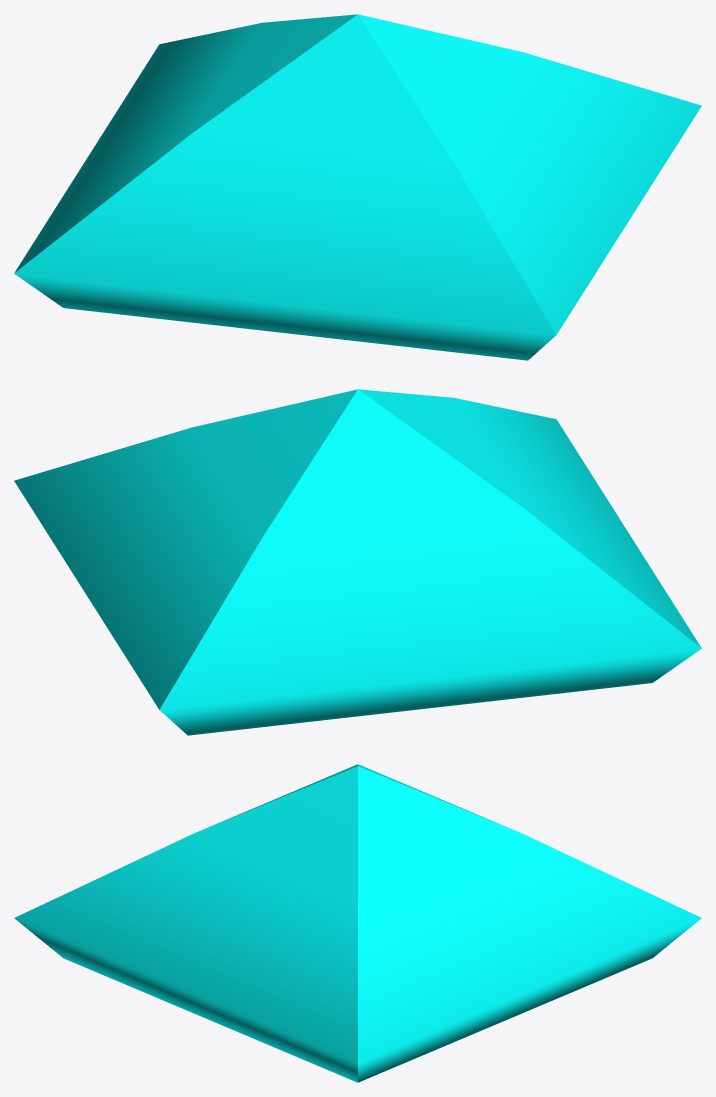
The model's file is resource.fbx.
3 views of the same model, one above another, from view 1: azimuth 30°, elevation 25°; view 2: azimuth 150°, elevation 25°; view 3: azimuth 270°, elevation 25° (orthographic). The views are drawn at different scales.
Visible parts, largest first — view 1: pCube3; view 2: pCube3; view 3: pCube3.
Boxes of the visible parts, bbox=[...] form: pCube3: bbox=[14, 14, 701, 360]; pCube3: bbox=[14, 389, 701, 735]; pCube3: bbox=[14, 764, 701, 1082].
Bounding box in the file's own units: 9.5 × 2.93 × 9.5.
